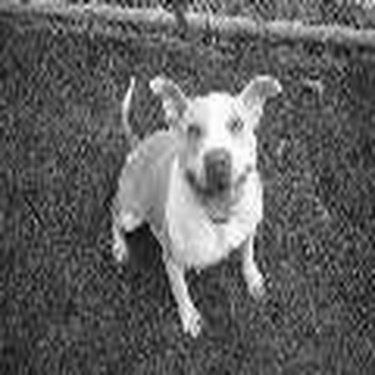dog: (108, 65, 282, 344)
